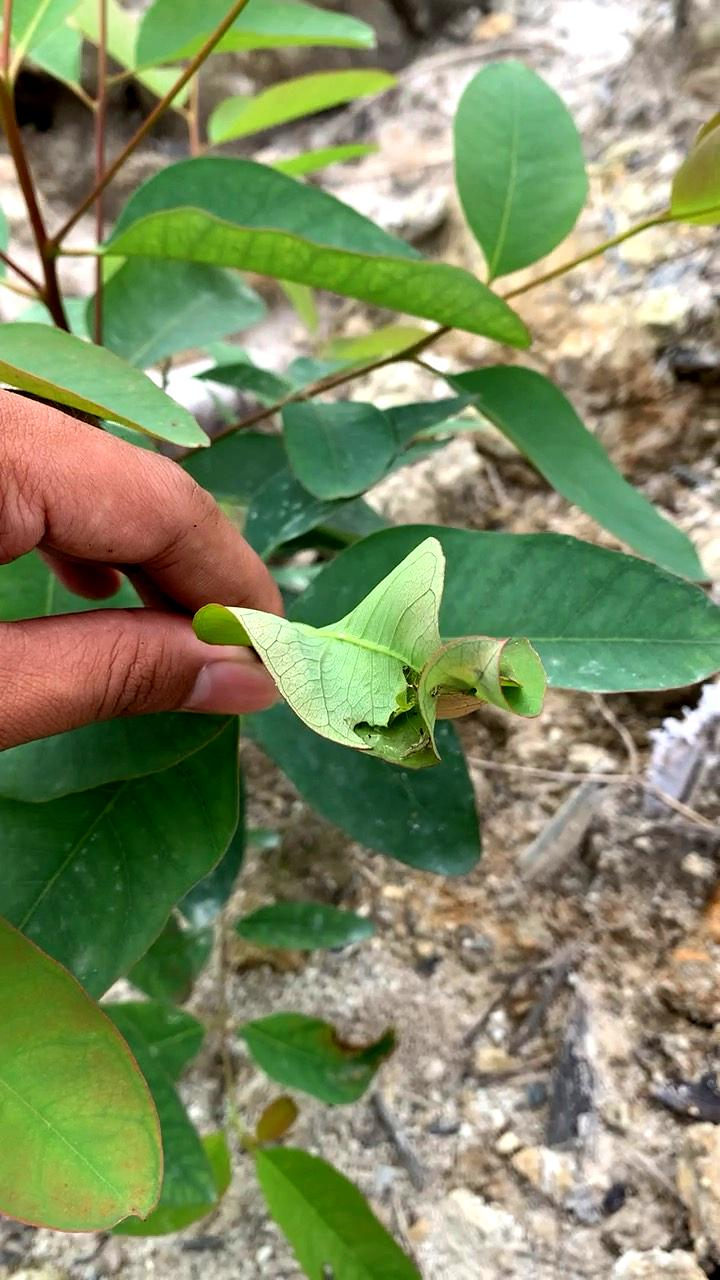Leaf Roller - Leaf: (185, 511, 555, 782)
